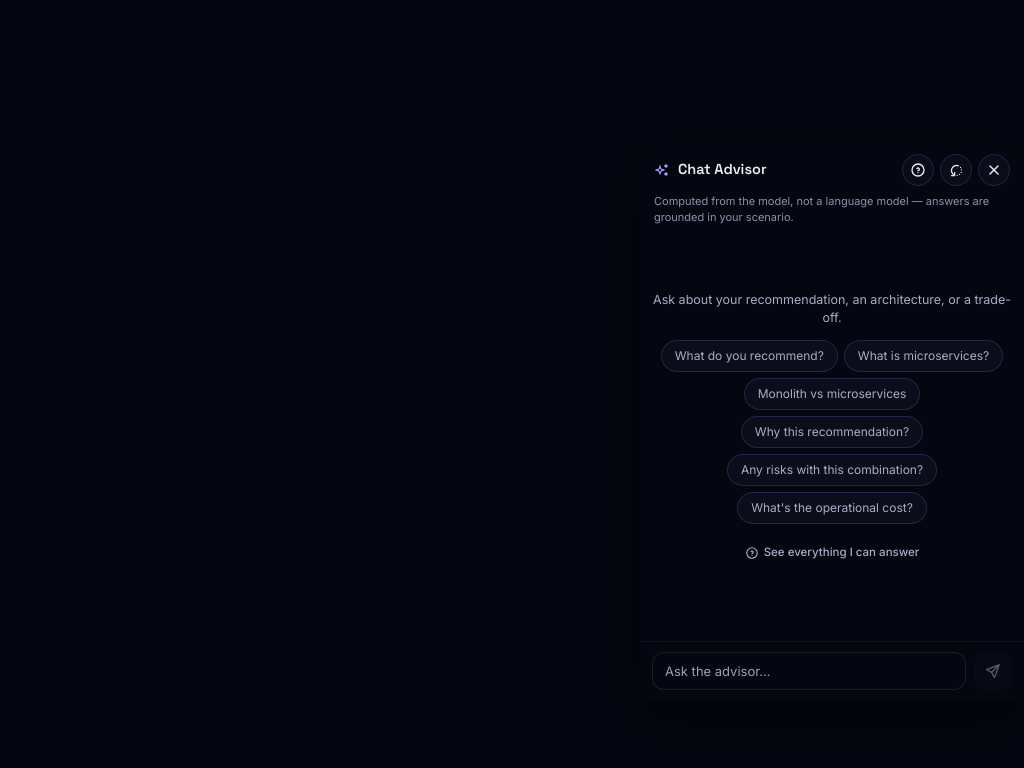
Test: ChatPanel — the capability browser is discoverable without prior knowledge › lists every topic, then drills into that topic's real questions
The image size is (1024, 768).
Click the button "See everything I can answer" at (832, 553), box x1=652 y1=536 x2=1012 y2=570
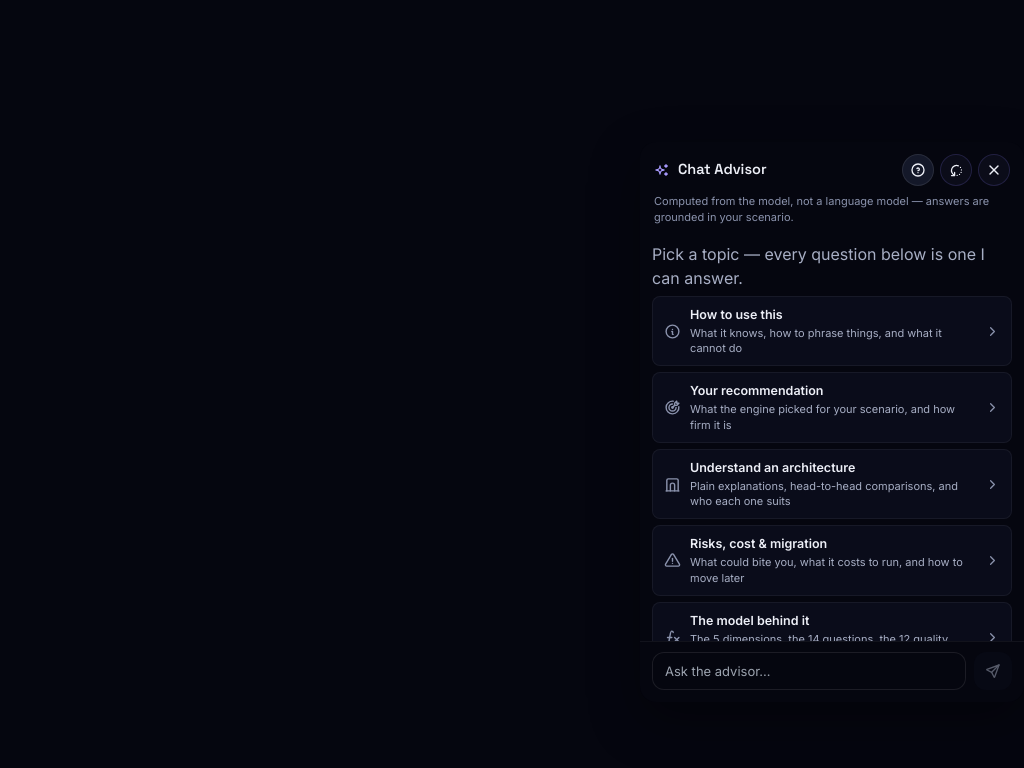
expect the text "Understand an architecture" is shown: met, box x1=690 y1=460 x2=855 y2=475
expect the text "Risks, cost & migration" is shown: met, box x1=690 y1=536 x2=827 y2=552
expect the text "The model behind it" is shown: met, box x1=690 y1=613 x2=809 y2=628
Click the text "Your recommendation" at (757, 391), box x1=690 y1=383 x2=824 y2=398
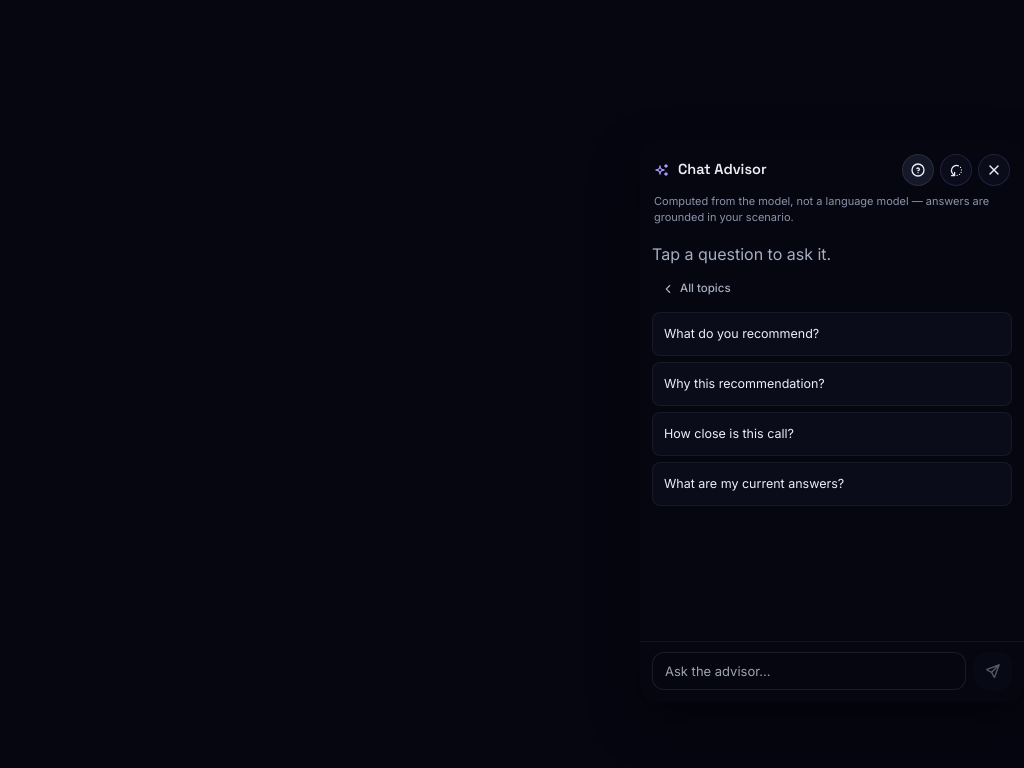
expect the button "What do you recommend?" is shown: met, box x1=652 y1=312 x2=1012 y2=356
expect the button "Why this recommendation?" is shown: met, box x1=652 y1=362 x2=1012 y2=406
expect the button "How close is this call?" is shown: met, box x1=652 y1=412 x2=1012 y2=456
